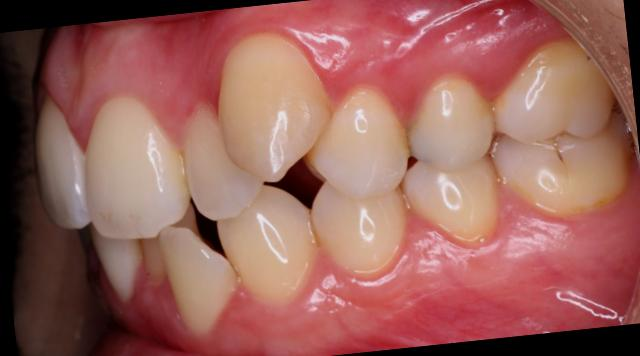canine class II 1/4: (198, 14, 418, 318)
molar class II 1/2: (478, 29, 640, 229)
